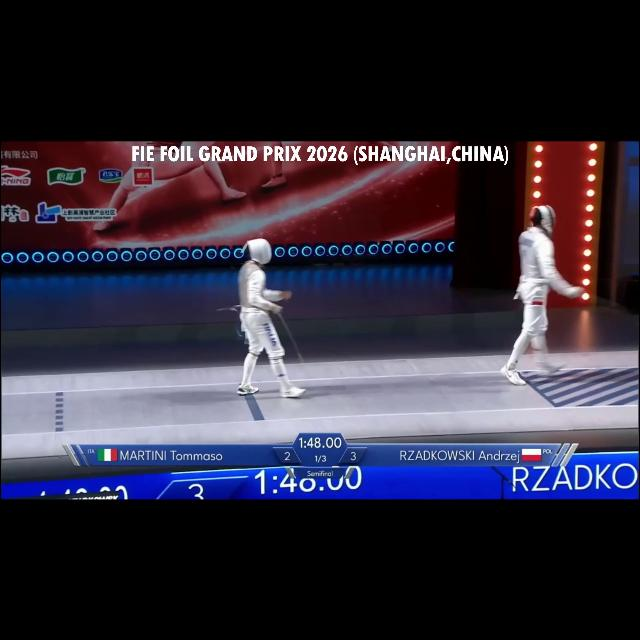blade: (272, 302, 314, 373)
